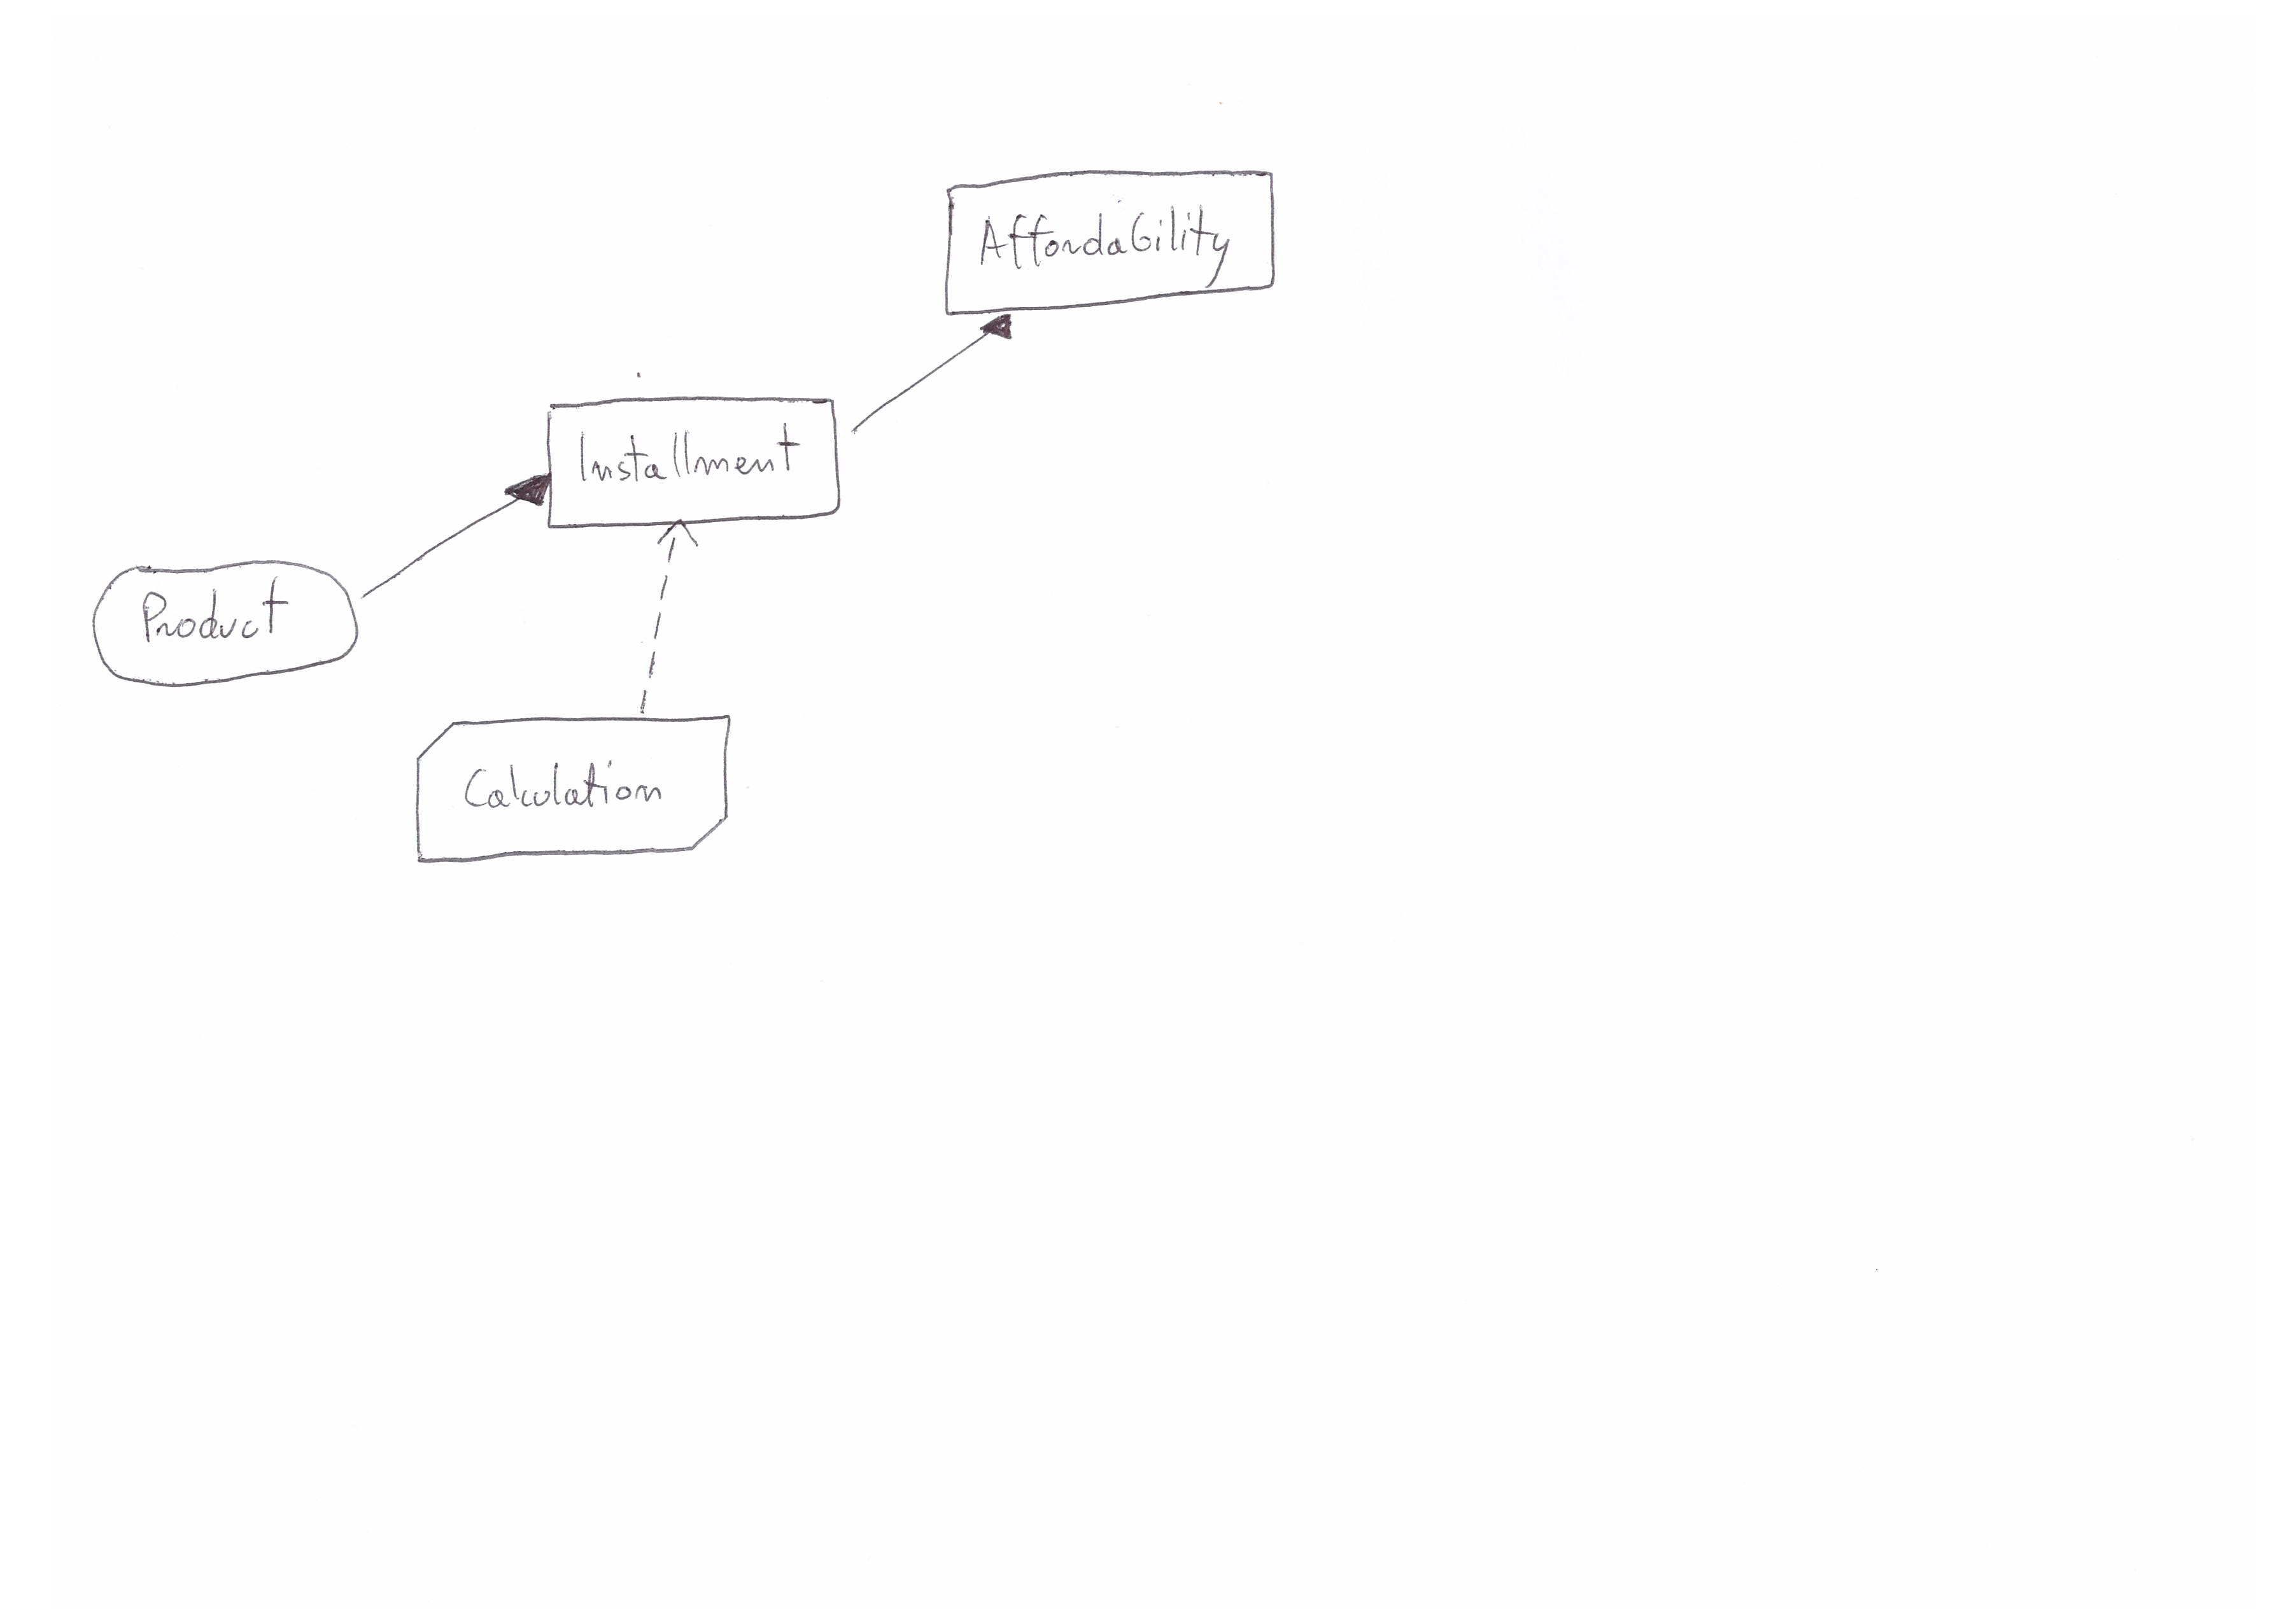arrow_information_requirement: (355, 460, 552, 610), (845, 313, 1024, 445)
arrow_knowledge_requirement: (615, 513, 705, 721)
node_decision: (940, 163, 1288, 315), (541, 392, 847, 534)
node_input_data: (91, 554, 365, 705)
node_knowledge_model: (411, 707, 745, 881)
text: (970, 199, 1246, 281), (568, 417, 810, 499), (453, 749, 685, 830), (134, 580, 299, 659)
